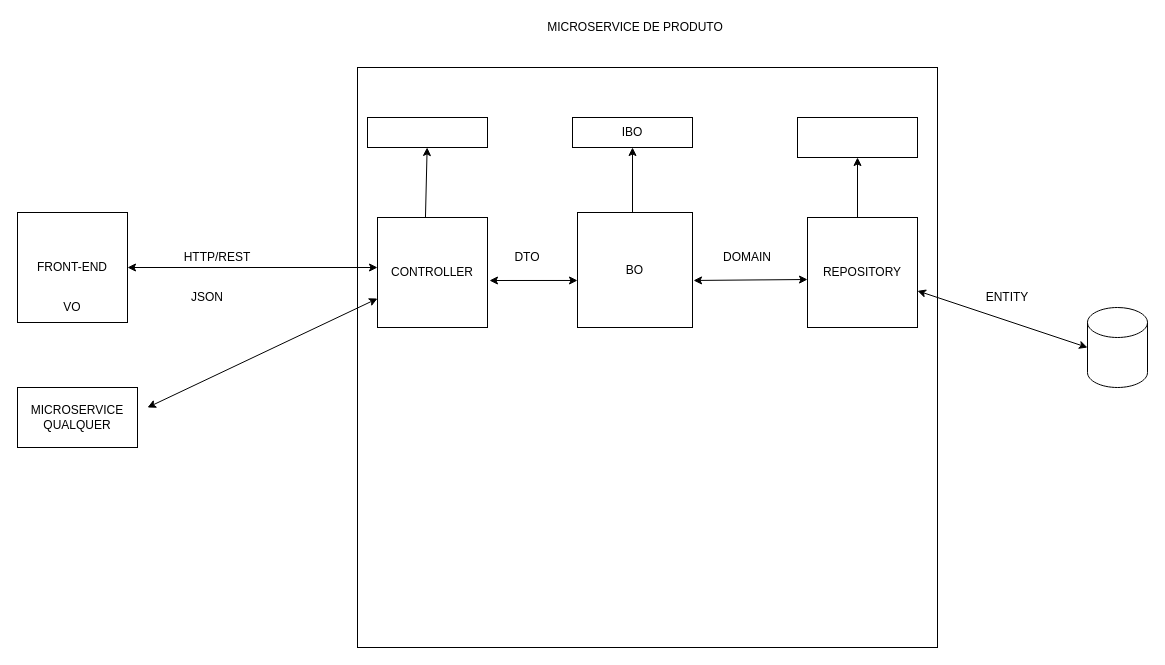
This 1165x665 diagram has some shape labels left out. The shapes that lost their labels are listed below. From the top down, each one's centre as x and y in pixels, then its label:
At point (427, 132): "ICONTROLLER".
At point (857, 137): "SPRING DATA JPA".
At point (1117, 347): "BD".
